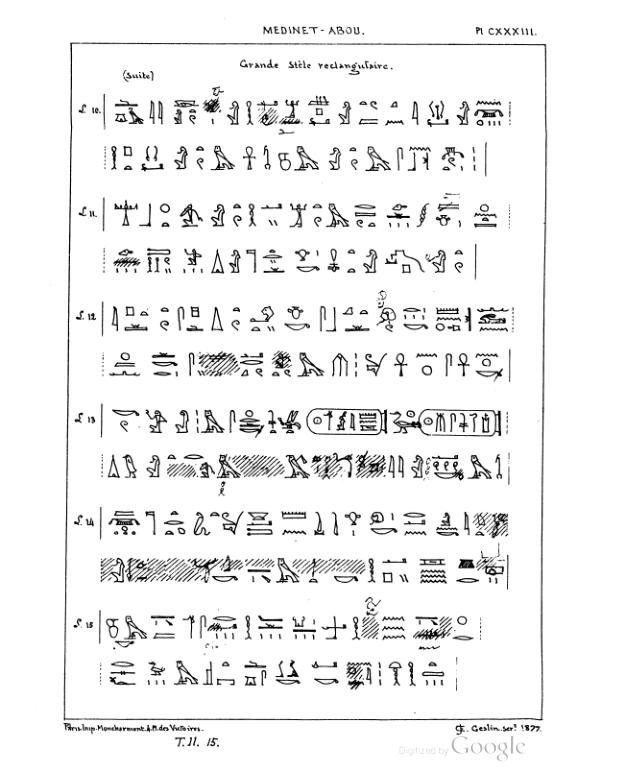circle: (414, 406, 509, 439), (303, 403, 391, 438)
